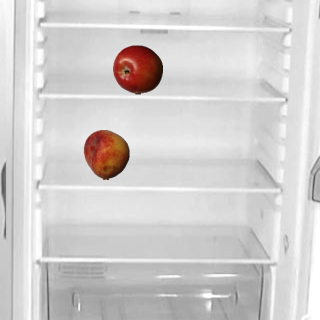Apple Braeburn: (112, 44, 162, 94)
Peach: (81, 129, 131, 179)
